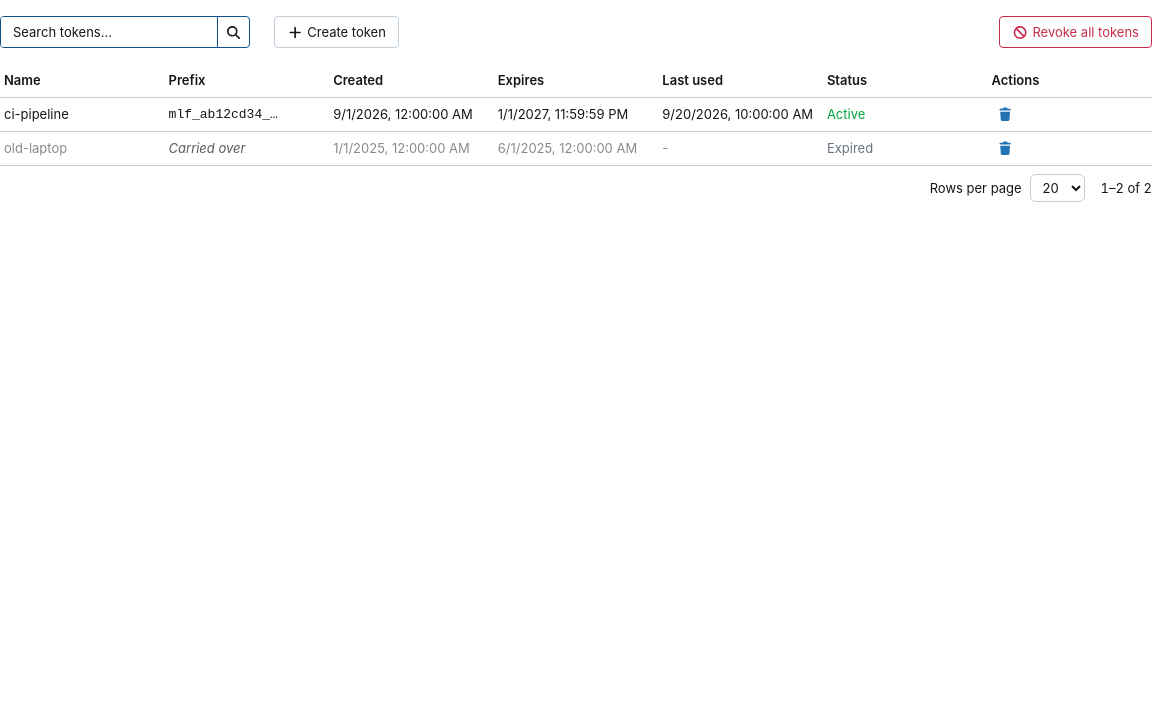
Test: UserTokensPanel › admin view of another account › keeps the unfiltered token count for revoke-all while searching
The image size is (1152, 720).
Type "no-such-token" into the field with placeholder "Search tokens..." at (109, 32), box top-left (1, 17), bottom-right (217, 47)
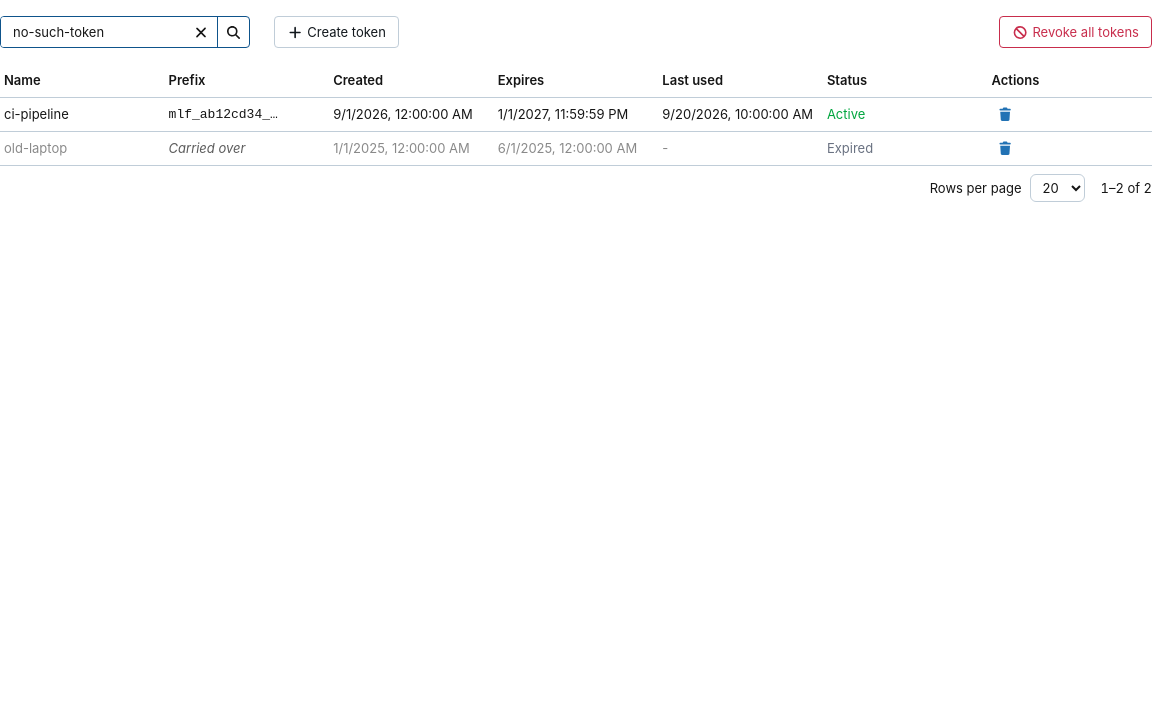
Submit the form with placeholder "Search tokens...", box top-left (0, 16), bottom-right (250, 48)
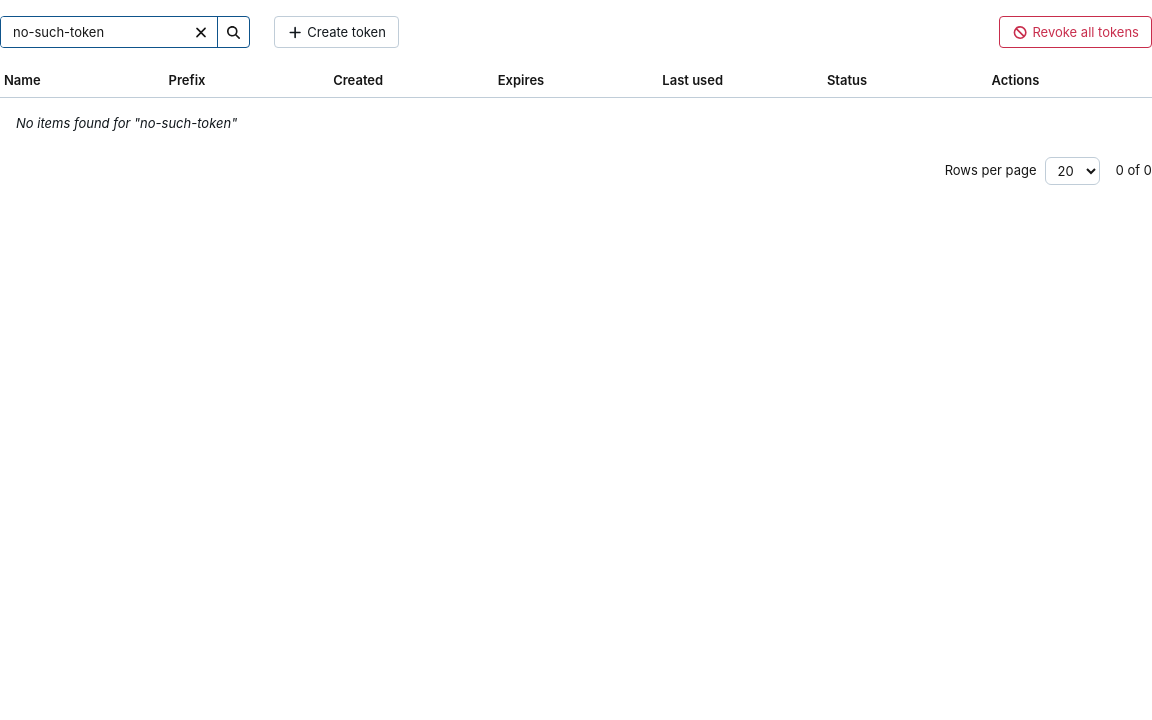
Click the button "Revoke all tokens" at (1076, 32), box top-left (999, 16), bottom-right (1151, 48)
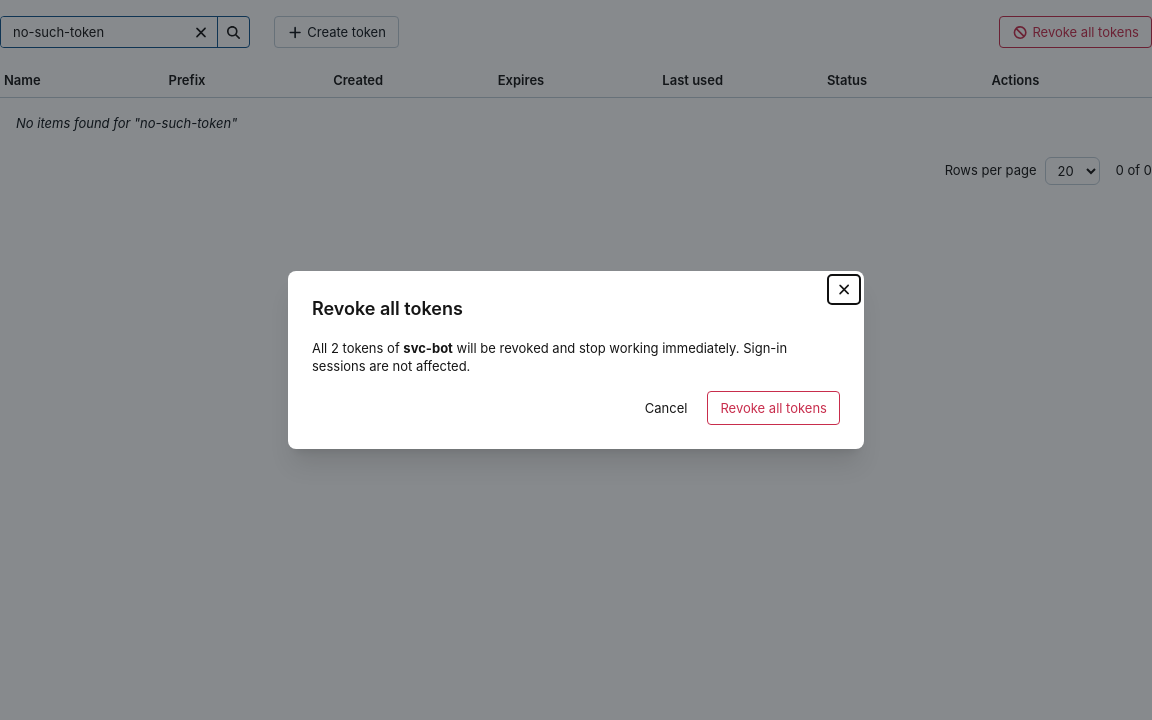
Check: the text "All 2 tokens of" is shown, box top-left (312, 339), bottom-right (840, 375)
